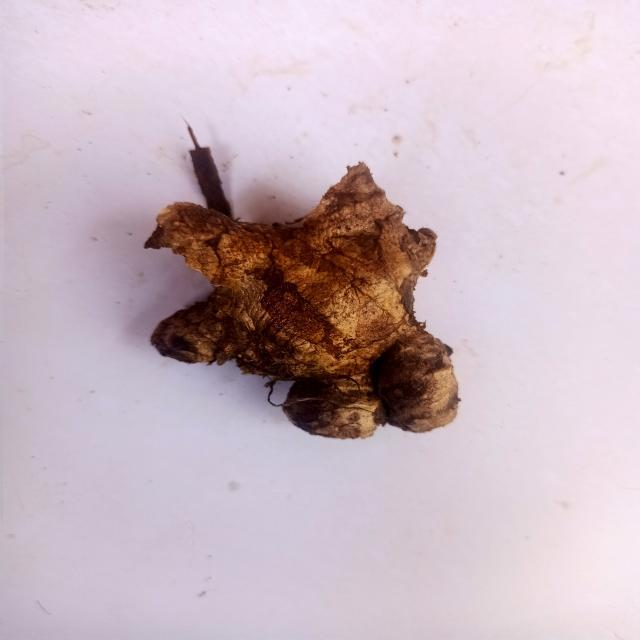Ginger: (116, 127, 478, 450)
